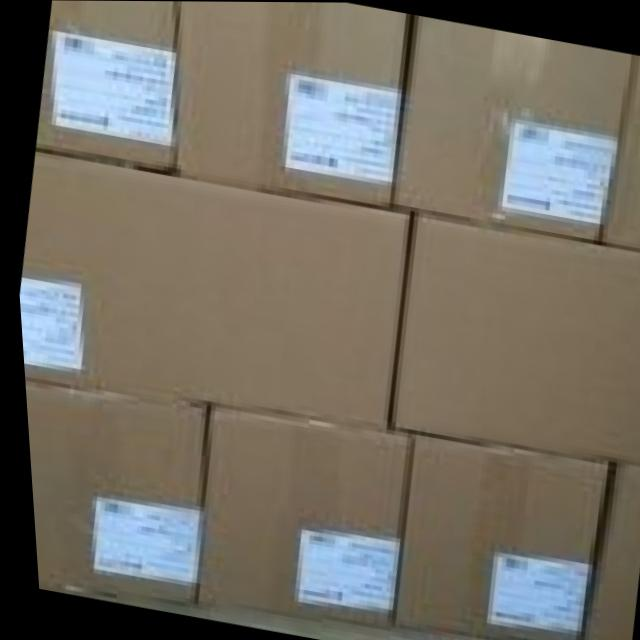box: (17, 148, 410, 431), (383, 208, 640, 466), (389, 15, 634, 242), (172, 1, 412, 207), (187, 406, 407, 626), (385, 429, 602, 640), (20, 380, 200, 604), (38, 0, 177, 170), (573, 460, 640, 640), (597, 55, 640, 250)
